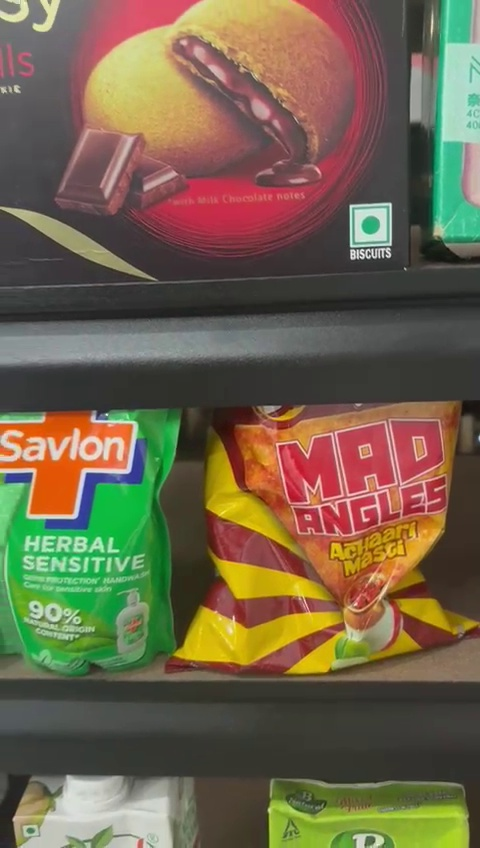Bingo Mad Angles: (208, 408, 475, 666)
